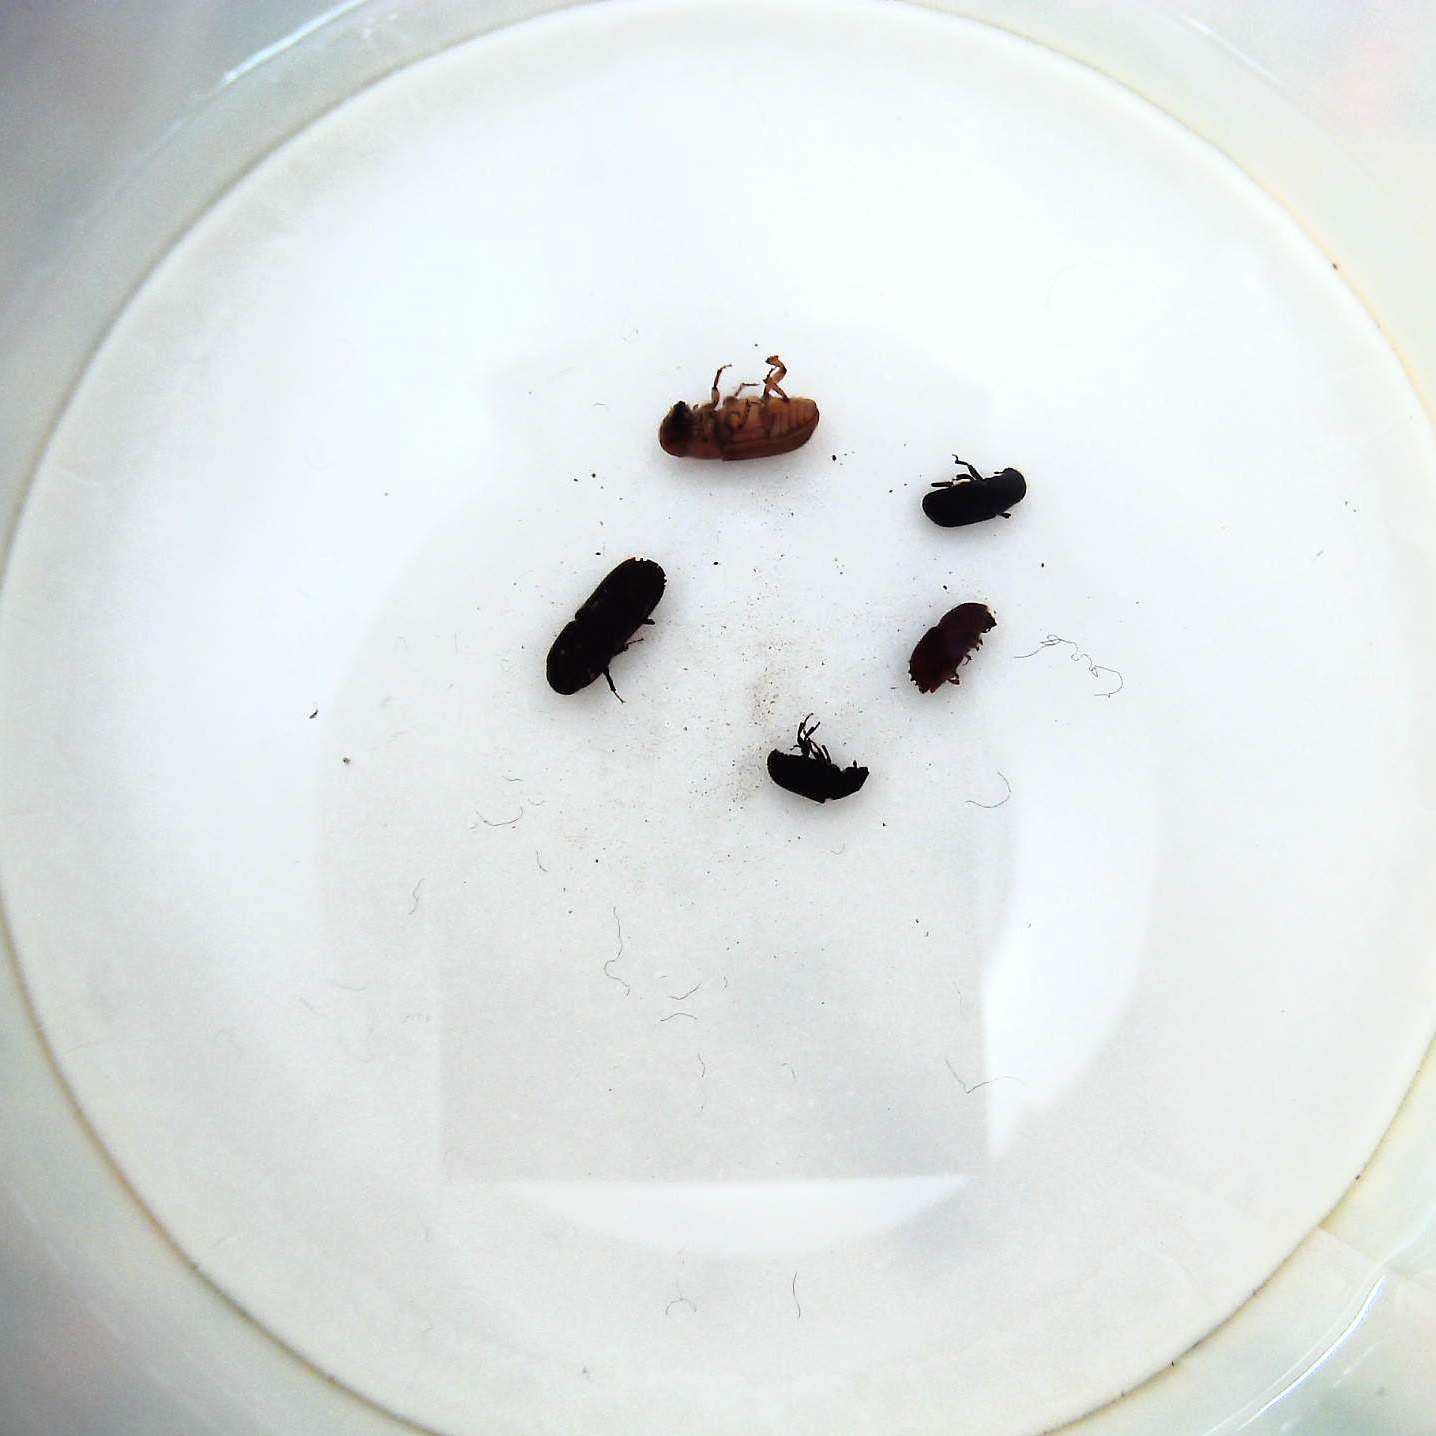Boerner: (539, 551, 676, 700)
Leconte: (654, 356, 825, 468)
armandi: (917, 456, 1032, 529)
coleoptera: (763, 717, 873, 811)
linnaeus: (907, 597, 1002, 697)
